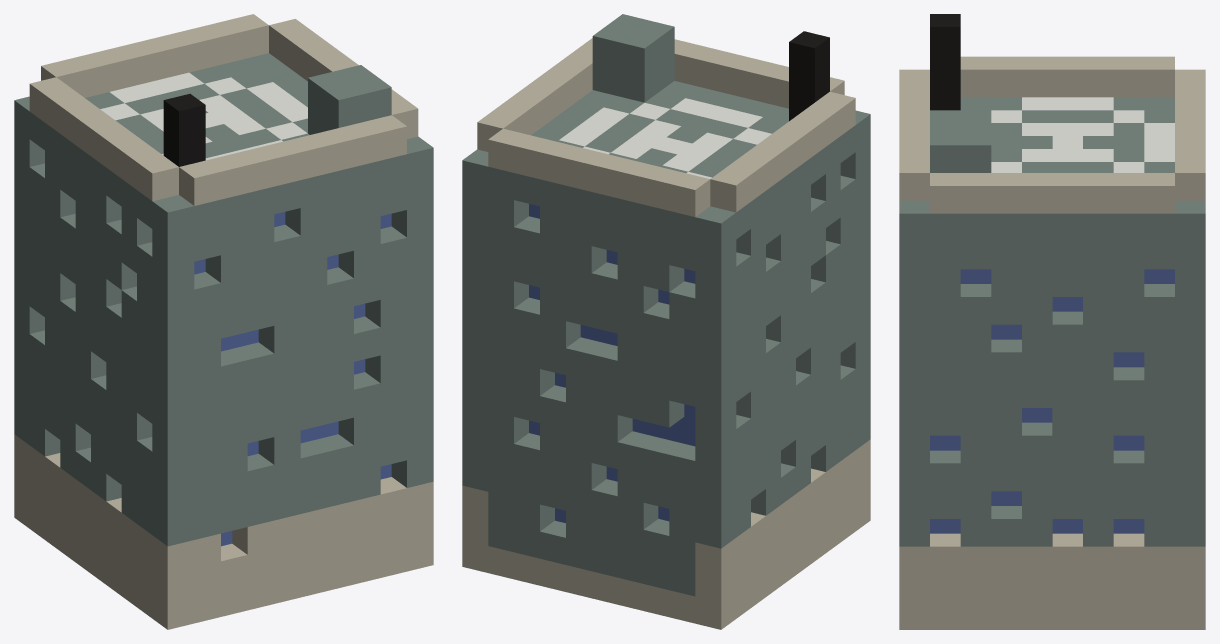
Rendered from building7.obj.
3 renders of one model, left to right at view 1: azimuth 30°, elevation 25°; view 2: azimuth 150°, elevation 25°; view 3: azimuth 270°, elevation 25°, orthographic. The views are drawn at different scales.
Bounding box in the file's own units: 1 × 1.8 × 1.
Materials: 1 (1 with a texture image).
